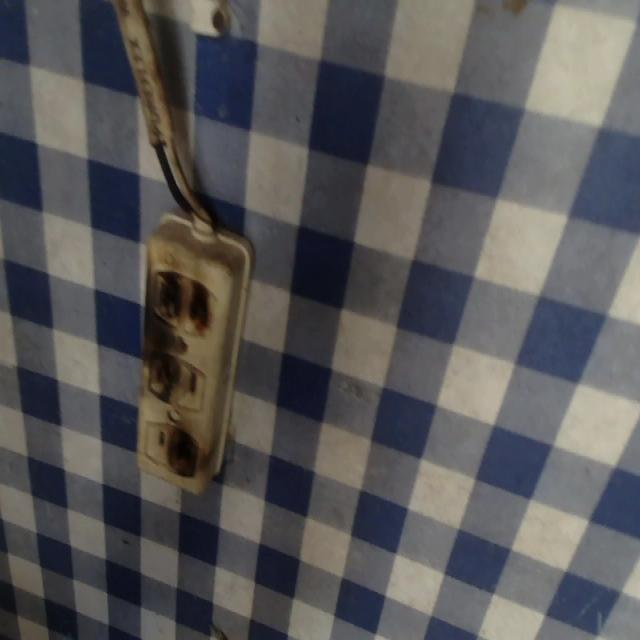-: (153, 265, 217, 335), (145, 350, 181, 406), (168, 427, 199, 480)
